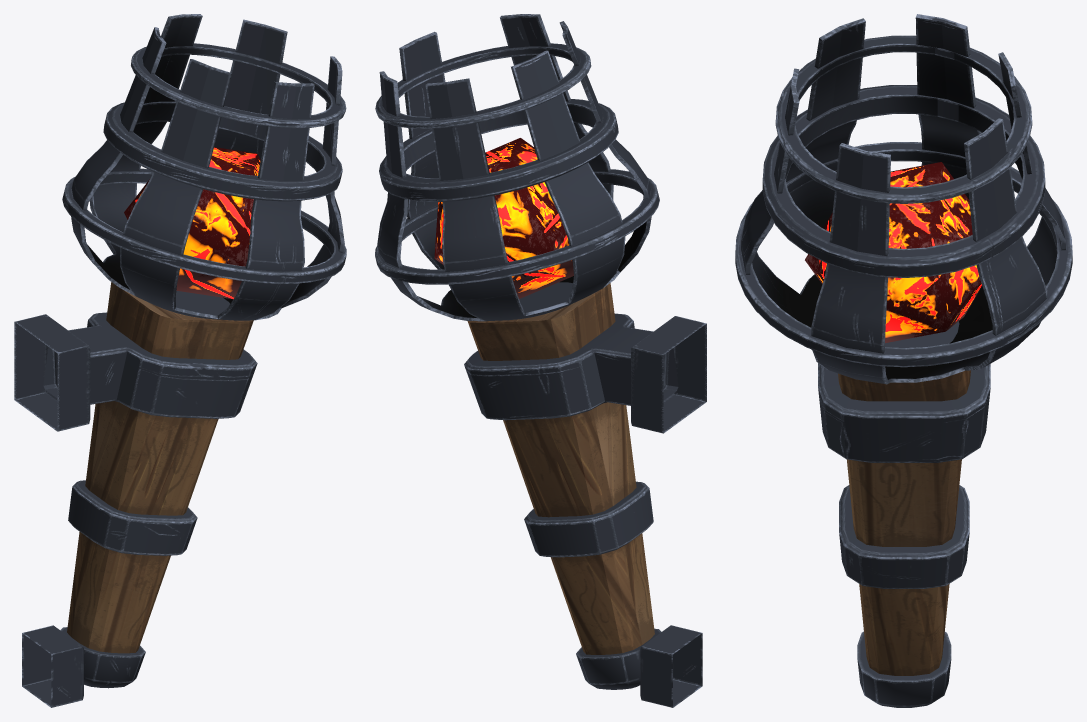
File: tourch.fbx
3 renders of one model, left to right at view 1: azimuth 30°, elevation 25°; view 2: azimuth 150°, elevation 25°; view 3: azimuth 270°, elevation 25°, orthographic. The views are drawn at different scales.
Visible parts, largest first — view 1: SM_tourch_tourch_0, SM_tourch_coal_0; view 2: SM_tourch_tourch_0, SM_tourch_coal_0; view 3: SM_tourch_tourch_0, SM_tourch_coal_0.
Part boxes in pixels (x1,y1,x2,y2): SM_tourch_tourch_0: (14, 14, 346, 707); SM_tourch_coal_0: (124, 147, 260, 299); SM_tourch_tourch_0: (375, 14, 706, 707); SM_tourch_coal_0: (434, 138, 573, 298); SM_tourch_tourch_0: (735, 14, 1072, 707); SM_tourch_coal_0: (805, 162, 982, 343).
Size of the model in its own units: 43.69 by 87.67 by 37.08.
2 materials, 2 textured.
